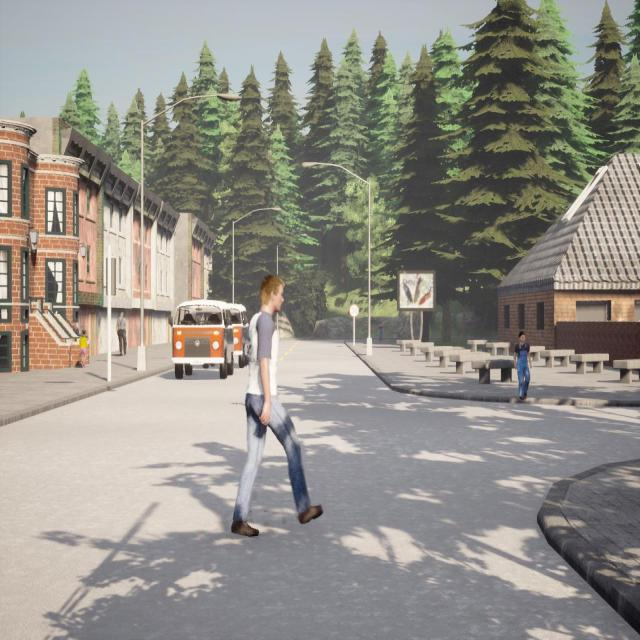Pedestrian: (232, 275, 322, 536), (513, 330, 533, 400), (116, 310, 127, 356), (79, 327, 90, 369), (378, 321, 383, 342)
Traffic_Signs: (349, 304, 359, 317)
Vehicle: (170, 299, 234, 379), (223, 303, 250, 367)
traffic_light: (106, 258, 116, 296)
